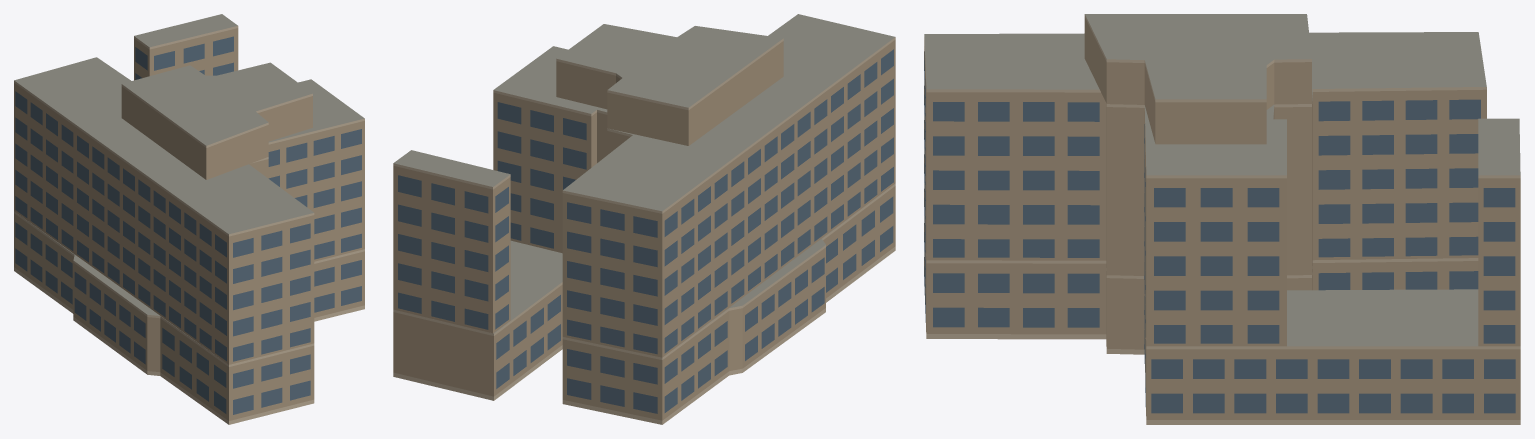
The model's file is dc-au-mcdowell-hall.glb.
The picture shows the model from 3 angles, left to right: view 1: azimuth 30°, elevation 25°; view 2: azimuth 150°, elevation 25°; view 3: azimuth 270°, elevation 25°; orthographic projection. The views are drawn at different scales.
Visible parts, largest first — view 1: McDowell Hall; view 2: McDowell Hall; view 3: McDowell Hall.
Boxes of the visible parts, <box> form: McDowell Hall: <box>14,14,364,424</box>; McDowell Hall: <box>393,14,895,424</box>; McDowell Hall: <box>924,14,1520,424</box>.
Bounding box in the file's own units: 34.62 × 32.2 × 59.13.
